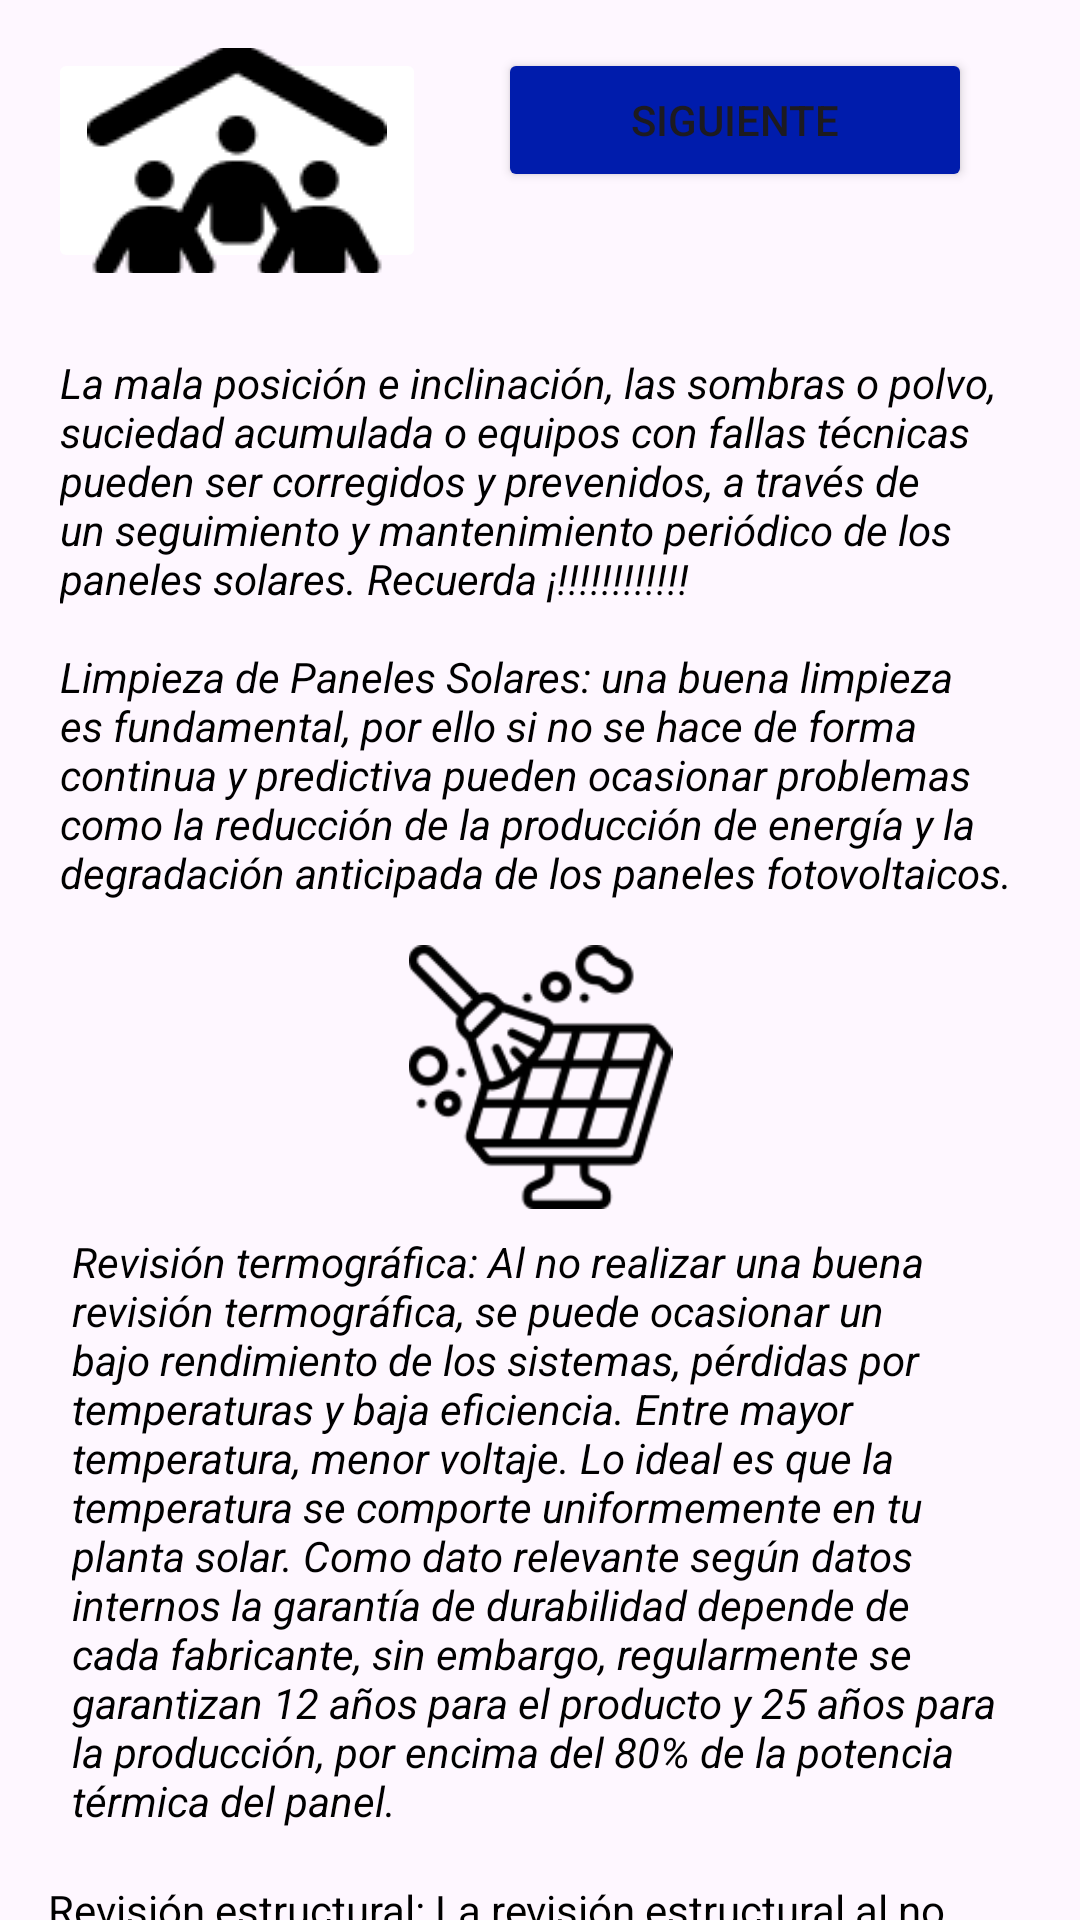

Where to tap for icons on this 1080 x 1920 app screen, as (x,y):
home: (237,160)
